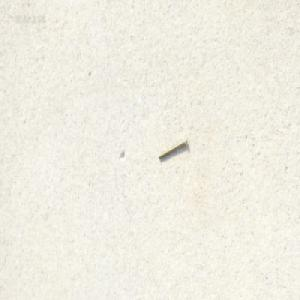Bolt: (157, 136, 187, 160)
